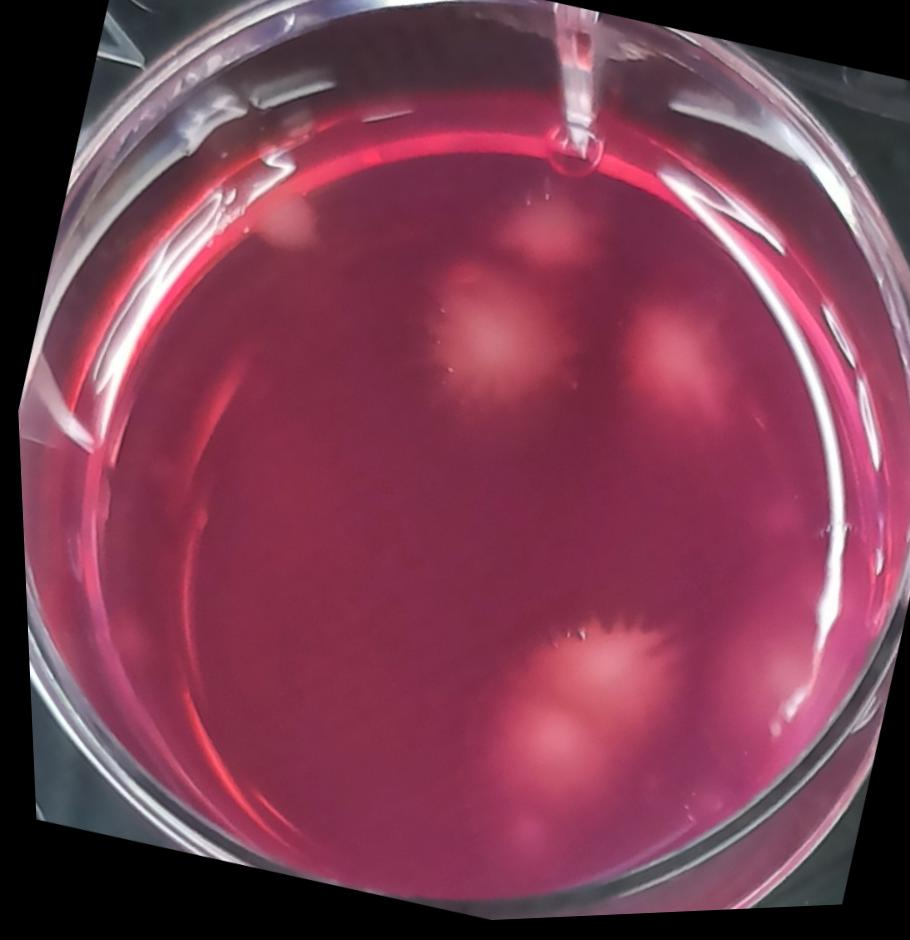vproteolyticus: (455, 581, 708, 848), (672, 551, 892, 813), (585, 257, 797, 485), (383, 235, 605, 452), (474, 164, 623, 300)
